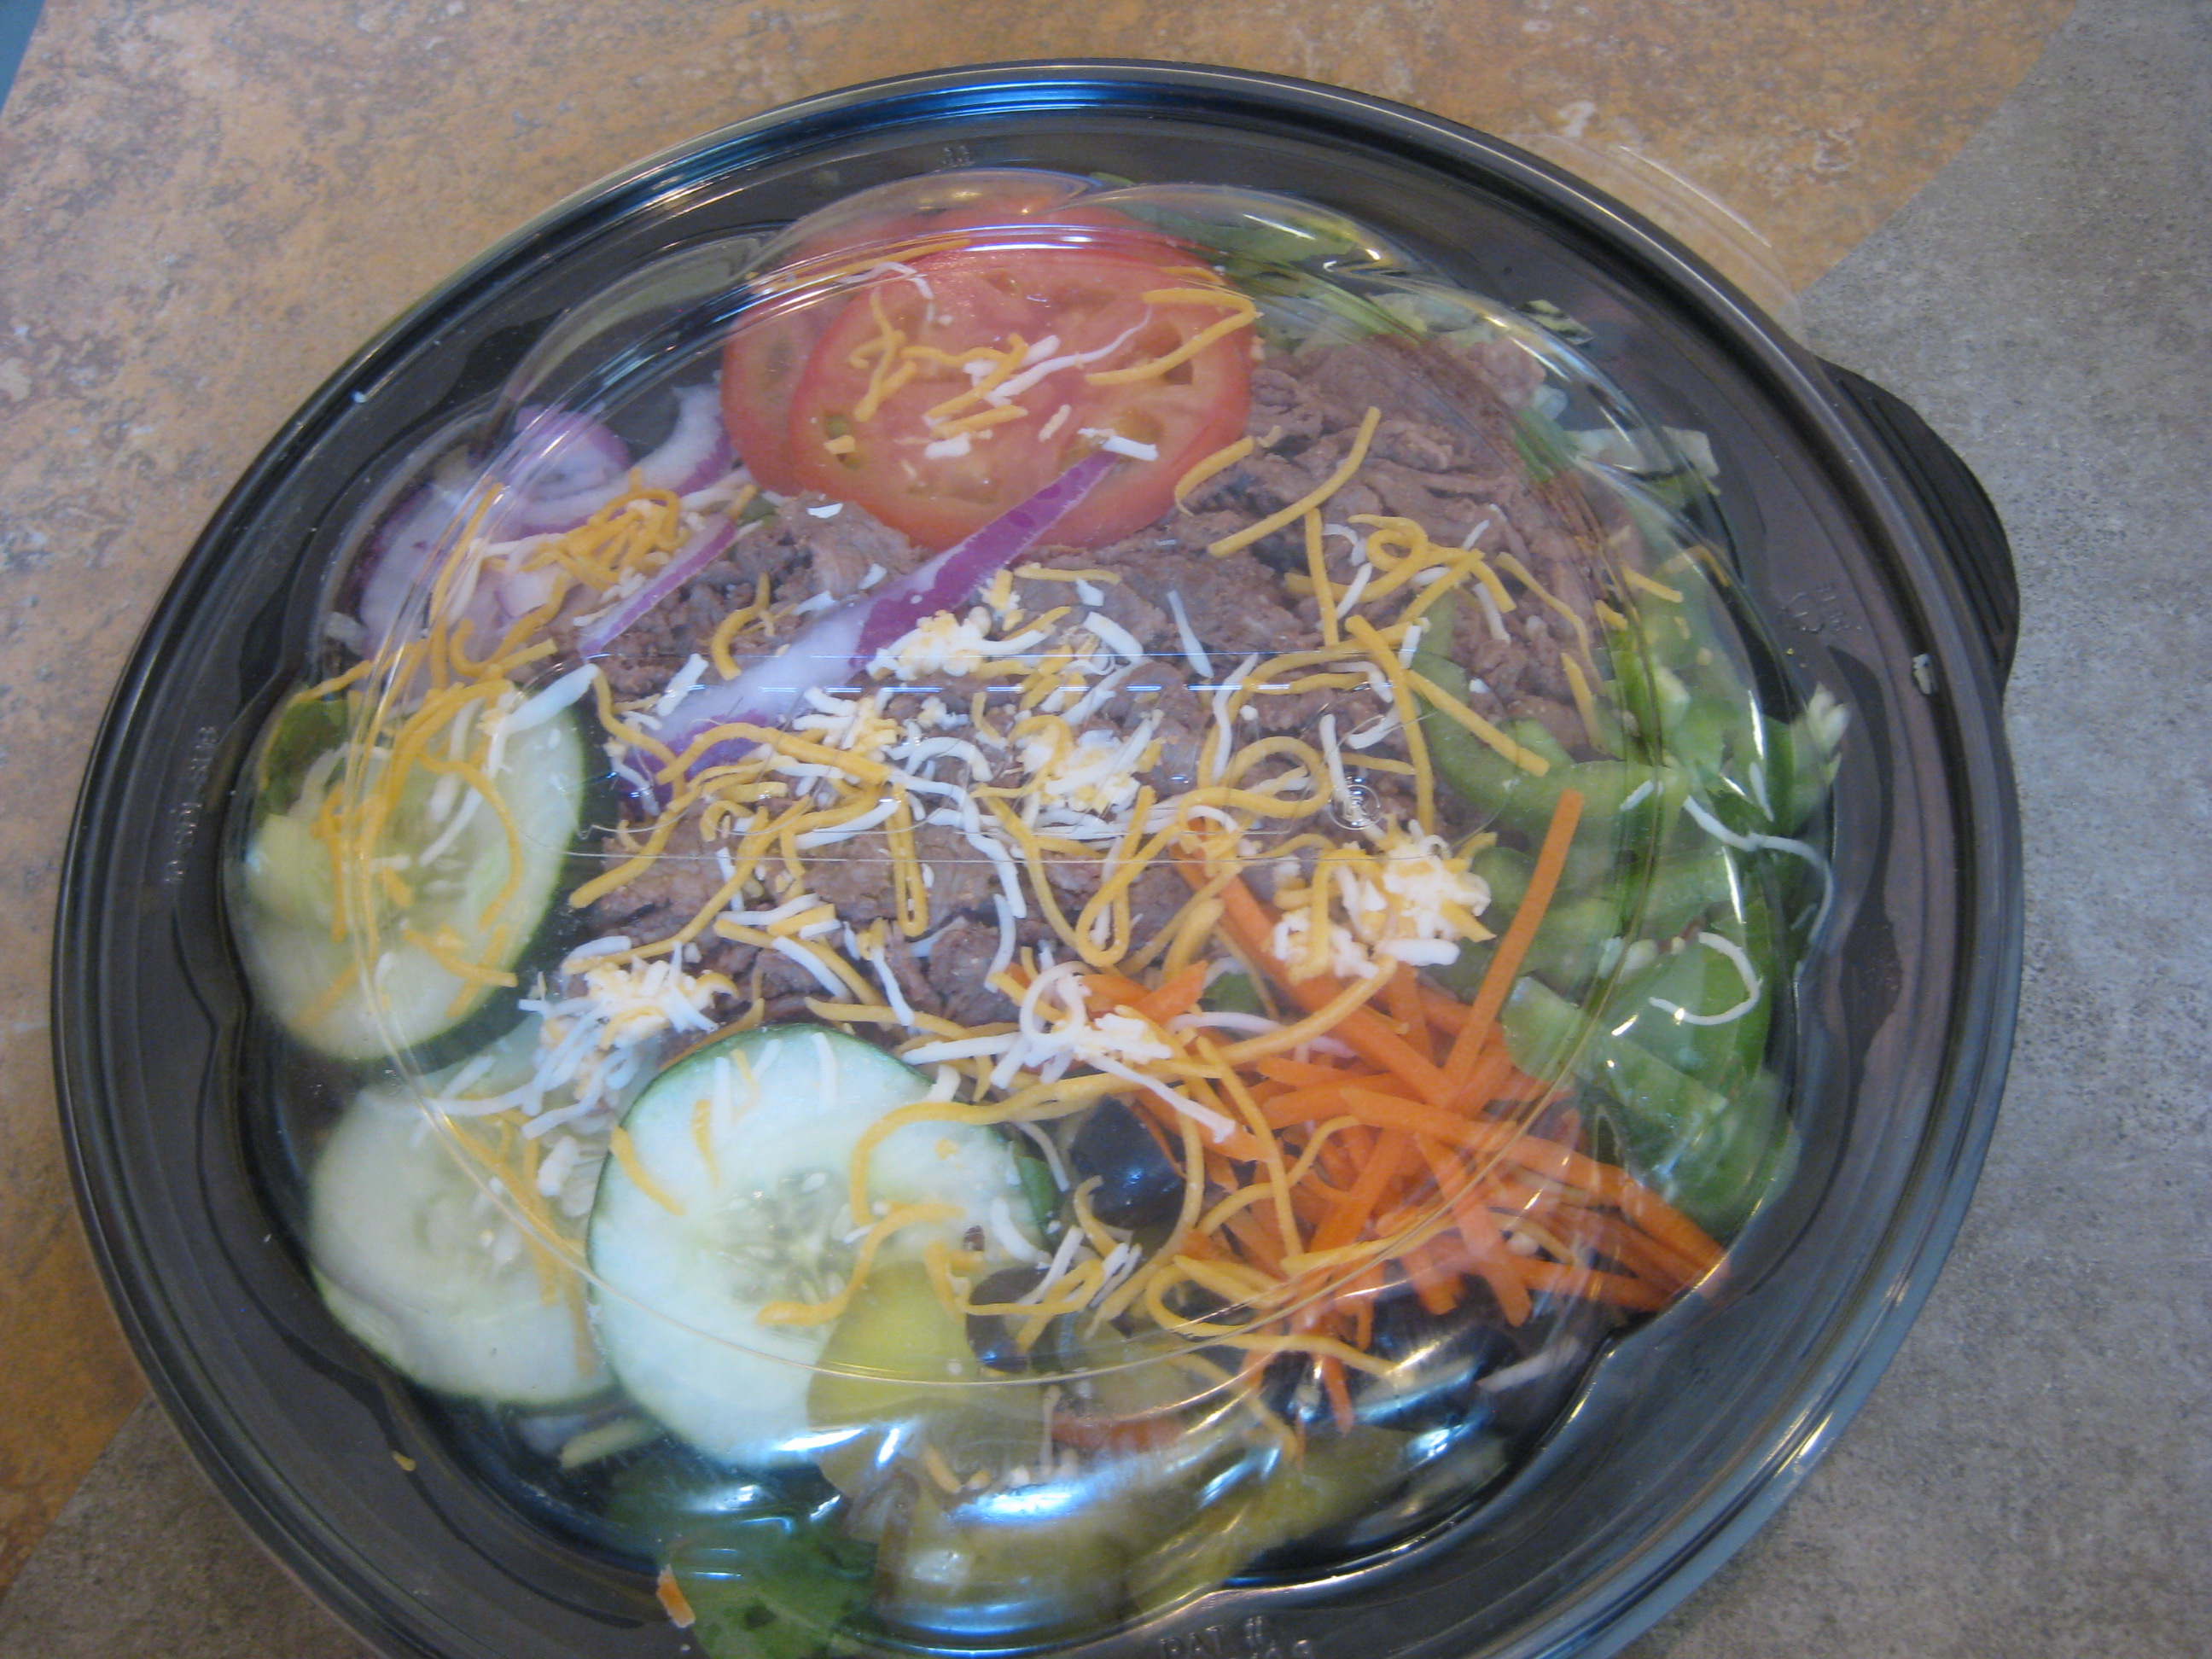salad: (248, 214, 1860, 1597)
